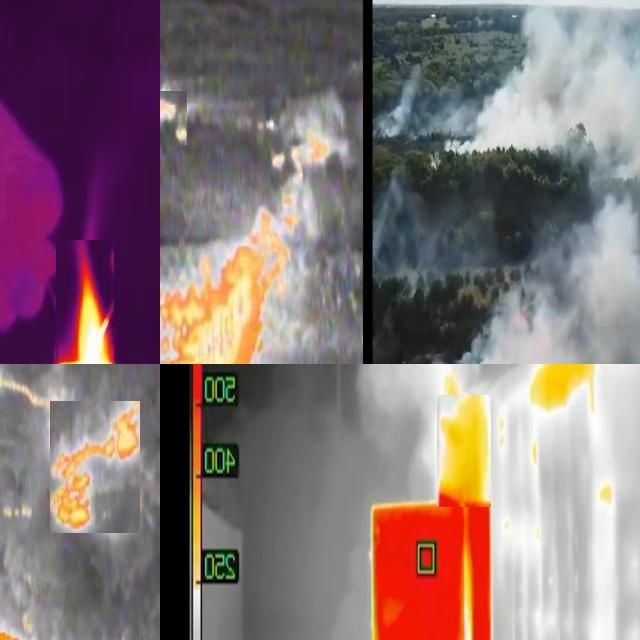fire: (161, 209, 290, 365), (51, 402, 141, 534), (57, 241, 115, 365), (438, 397, 492, 509), (279, 130, 331, 230), (1, 365, 52, 412), (161, 92, 188, 146)
